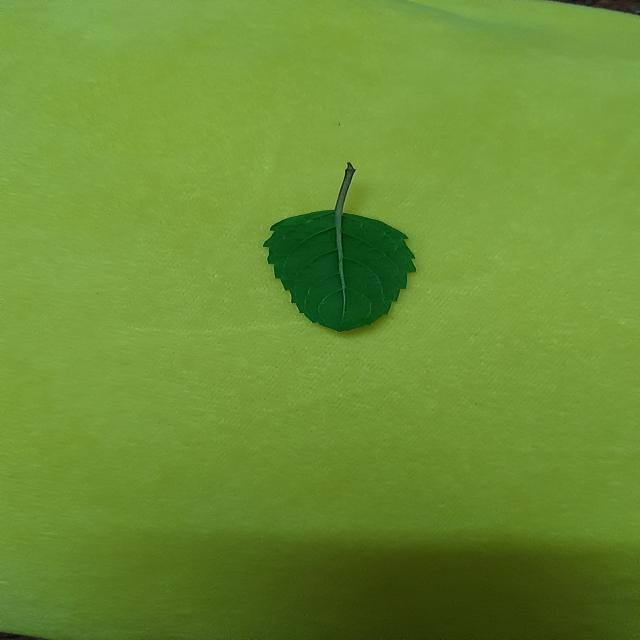tulsi: (263, 210, 415, 331)
